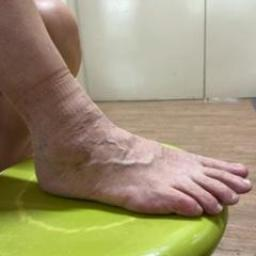Lateral View -Right Foot-: (7, 76, 255, 240)
